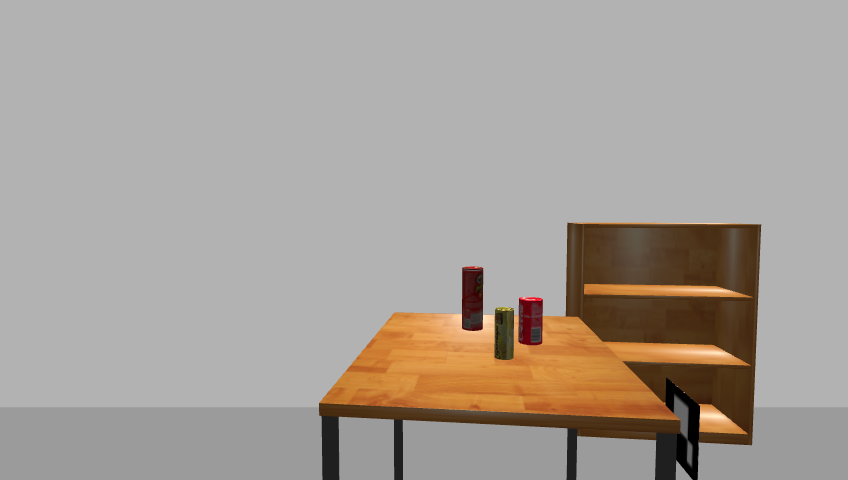aruco marker: (661, 379, 703, 480)
biscuits pack: (494, 307, 514, 360)
bookshelf: (563, 220, 769, 450)
coke can: (518, 296, 545, 346)
dinner table: (315, 309, 686, 480)
pringles can: (459, 265, 485, 333)
